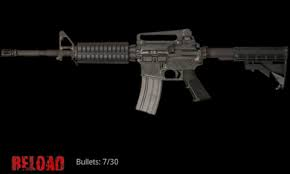gun: (0, 27, 287, 117)
